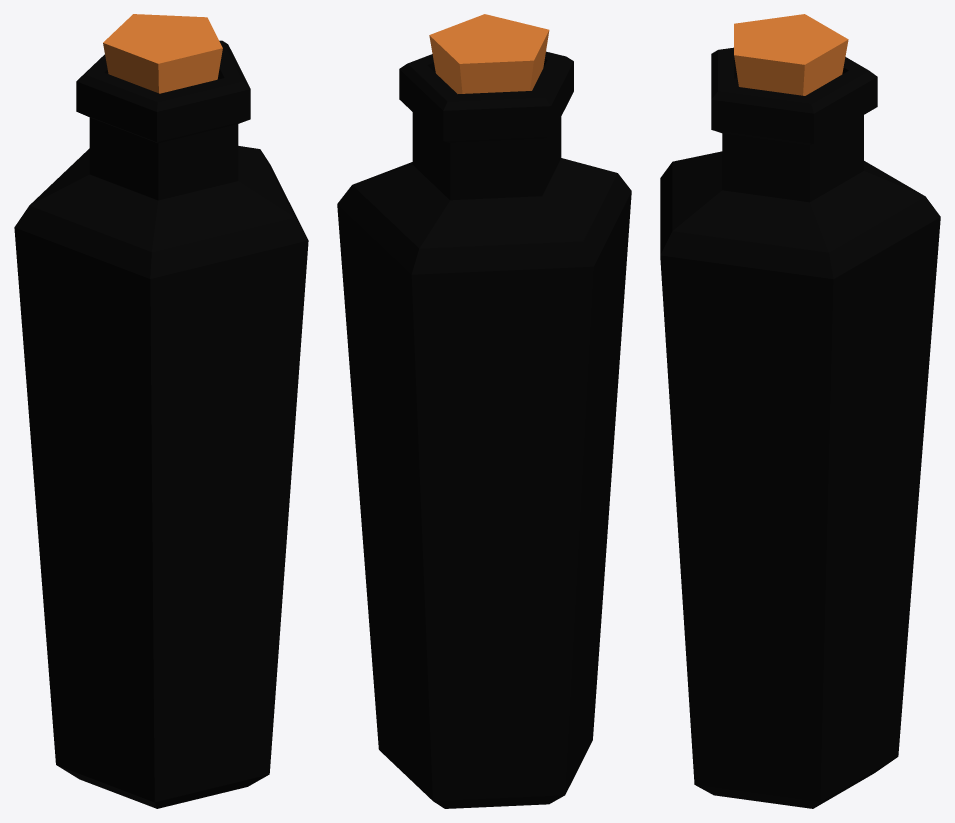
File: Cylinder Potion_Filled.fbx
The picture shows the model from 3 angles, left to right: view 1: azimuth 30°, elevation 25°; view 2: azimuth 150°, elevation 25°; view 3: azimuth 270°, elevation 25°; orthographic projection.
Visible parts, largest first — view 1: Cylinder, penutup; view 2: Cylinder, penutup; view 3: Cylinder, penutup.
Part boxes in pixels (x1=…): Cylinder: x1=14, y1=40, x2=308, y2=808; penutup: x1=103, y1=14, x2=222, y2=93; Cylinder: x1=337, y1=51, x2=631, y2=808; penutup: x1=429, y1=14, x2=549, y2=93; Cylinder: x1=660, y1=47, x2=940, y2=808; penutup: x1=734, y1=14, x2=848, y2=95.
Bounding box in the file's own units: 32.62 × 89.41 × 31.02.
